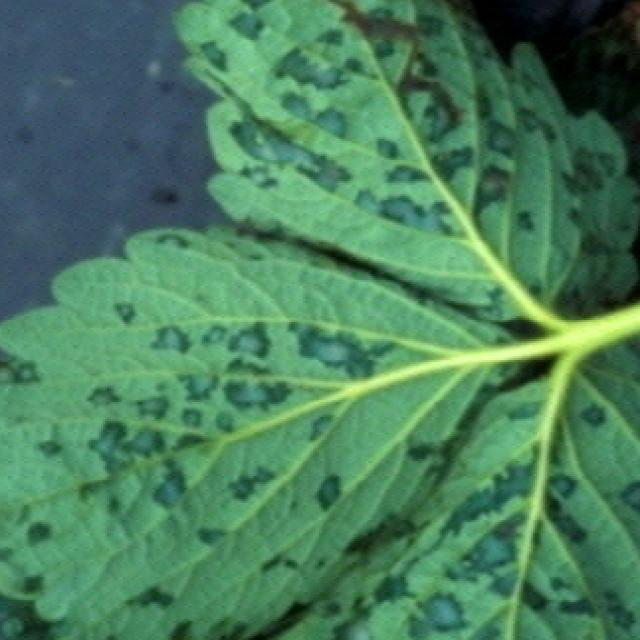Angular Leafspot: (0, 220, 537, 640), (167, 0, 640, 324), (265, 332, 640, 640)
